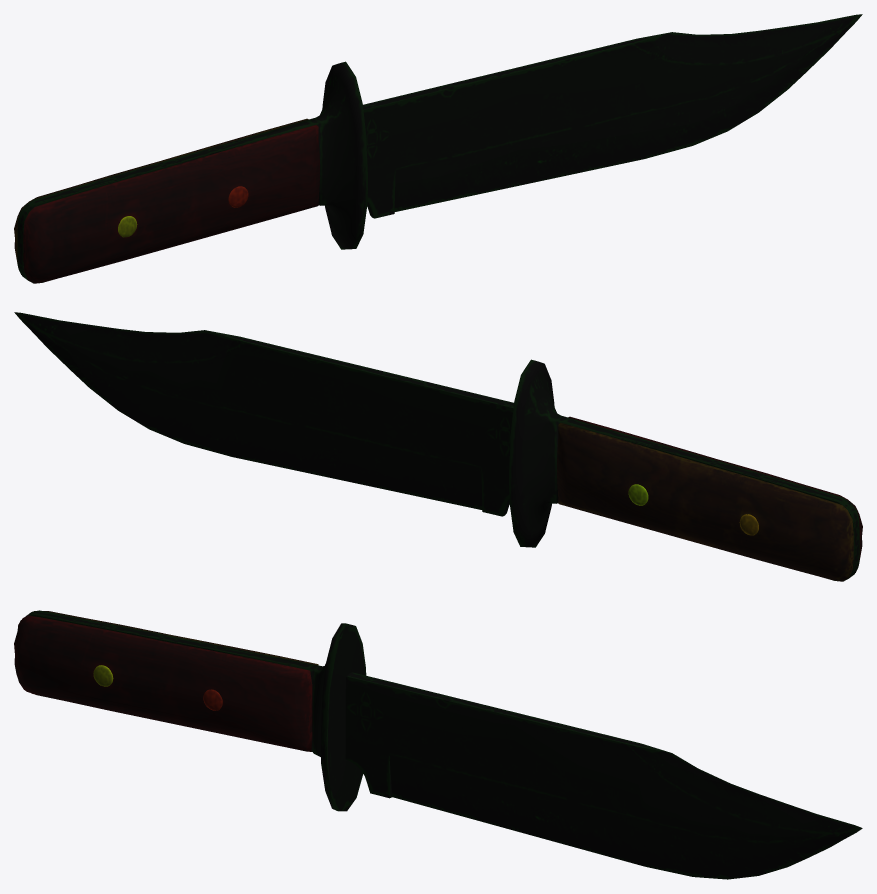
File: bowie.glb
3 views of the same model, one above another, from view 1: azimuth 30°, elevation 25°; view 2: azimuth 150°, elevation 25°; view 3: azimuth 330°, elevation 25° (orthographic).
Visible parts, largest first — view 1: Wood_handle_low__0; view 2: Wood_handle_low__0; view 3: Wood_handle_low__0.
Part boxes in pixels (<box>): Wood_handle_low__0: <box>14,14,862,283</box>; Wood_handle_low__0: <box>14,312,862,581</box>; Wood_handle_low__0: <box>14,610,862,879</box>.
Size of the model in its own units: 4 by 0.8507 by 0.3407.
1 material, 1 textured.
